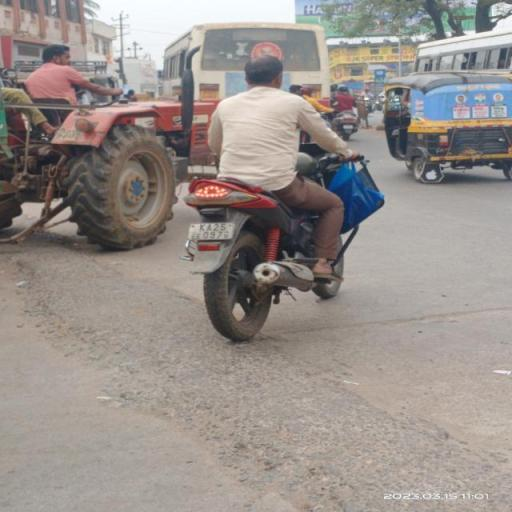bike: (178, 50, 379, 347)
numberplate: (186, 224, 236, 242)
withouthelmet: (247, 56, 283, 87)
